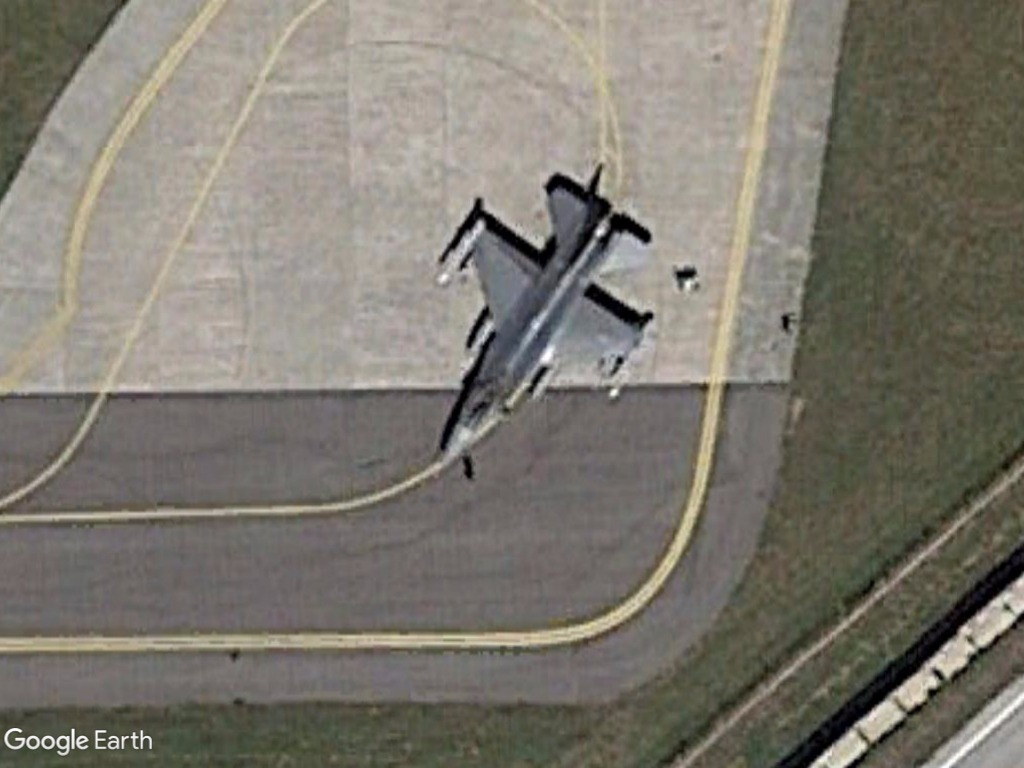fighter: (422, 174, 665, 484)
